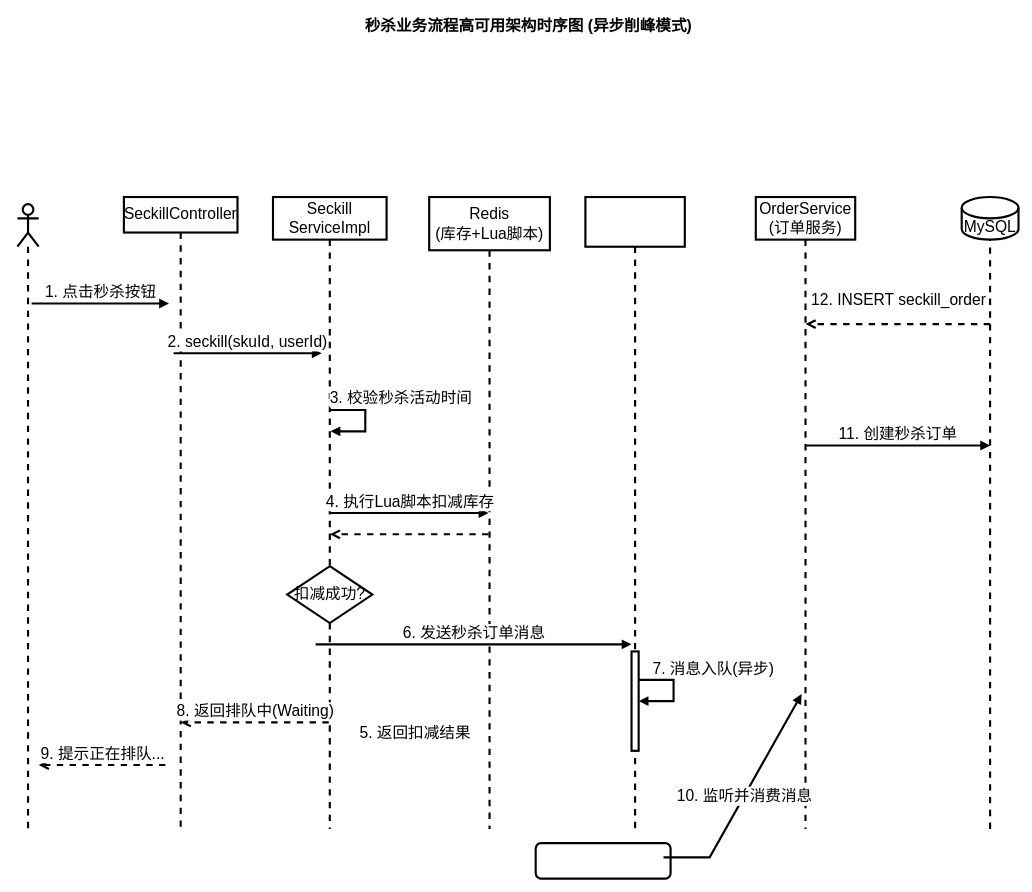
Some shapes in this 1032 by 892 pixel diagram are drawn without their labels. Here are the shapes that lost their labels. From the top down, the box of each, then its label:
(16, 203, 39, 247): 用户
(584, 196, 686, 830): RabbitMQ (异步下单)
(534, 842, 671, 879): 异步处理 (消费者)
